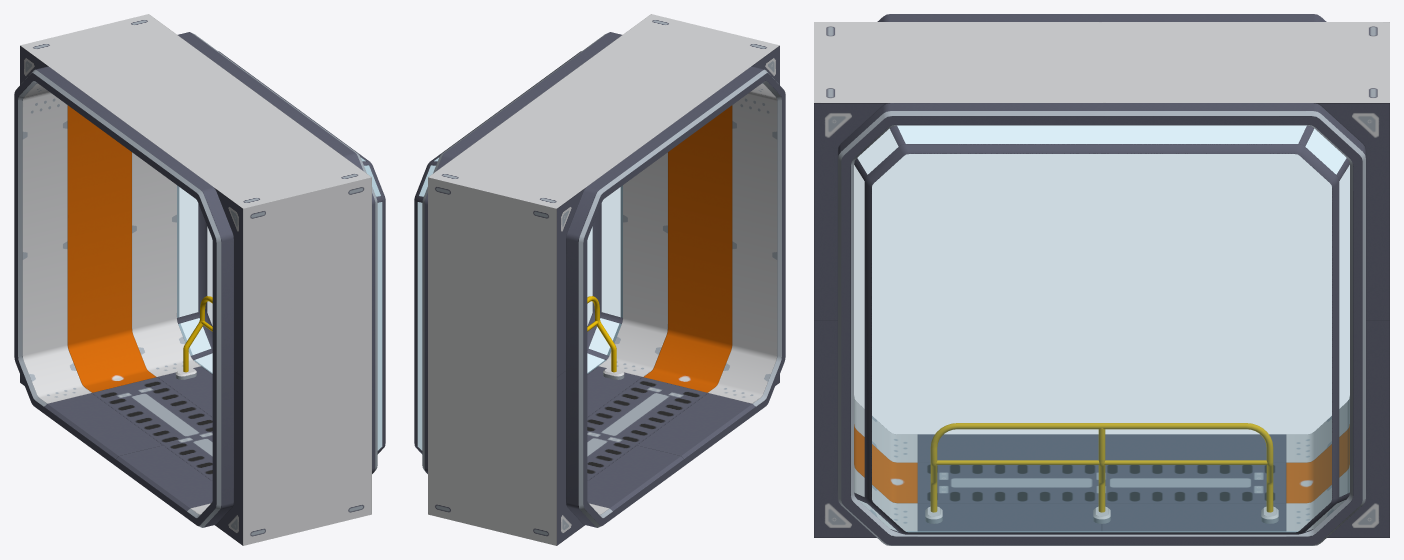
File: Wall_Window_Simple_01.FBX
3 renders of one model, left to right at view 1: azimuth 30°, elevation 25°; view 2: azimuth 150°, elevation 25°; view 3: azimuth 270°, elevation 25°, orthographic. The views are drawn at different scales.
Parts seen in each view (by area): view 1: Wall_Window_Simple_01; view 2: Wall_Window_Simple_01; view 3: Wall_Window_Simple_01.
Part boxes in pixels (<box>): Wall_Window_Simple_01: <box>14,14,385,545</box>; Wall_Window_Simple_01: <box>414,14,785,545</box>; Wall_Window_Simple_01: <box>814,14,1389,545</box>.
Size of the model in its own units: 2.81 by 5 by 6.
4 materials, 3 textured.
